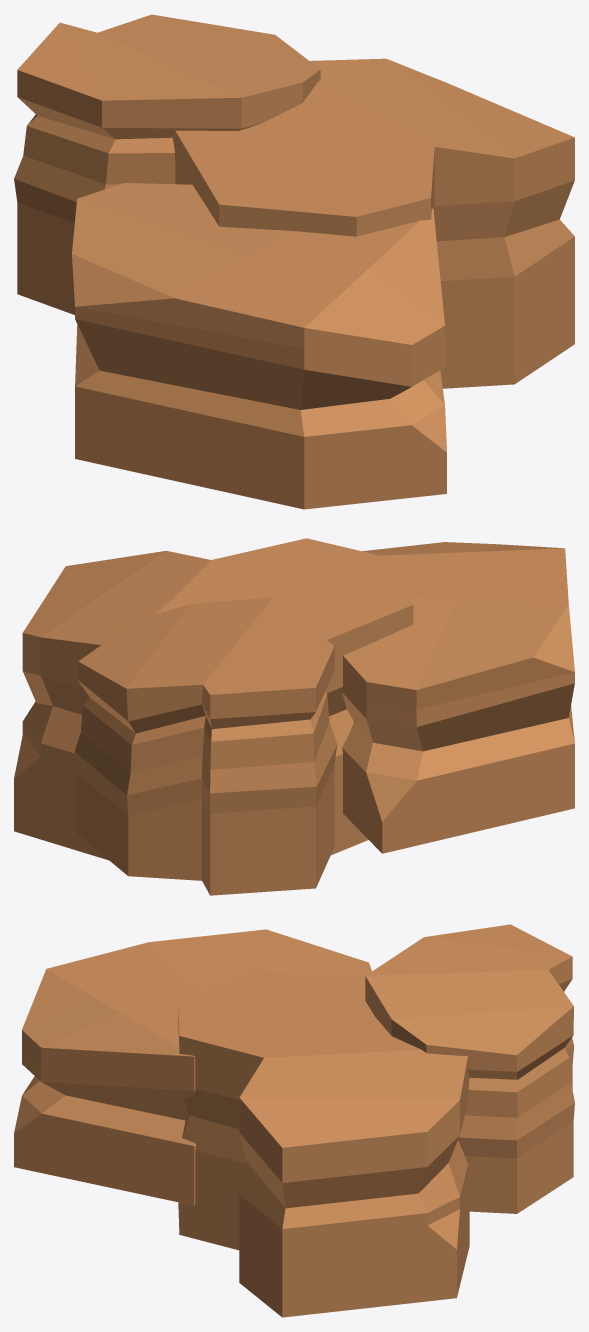
File: SandRocks22_LOD1.fbx
3 renders of one model, top to bottom at view 1: azimuth 30°, elevation 25°; view 2: azimuth 150°, elevation 25°; view 3: azimuth 270°, elevation 25°, orthographic. The views are drawn at different scales.
Parts seen in each view (by area): view 1: 22; view 2: 22; view 3: 22.
Boxes of the visible parts, x1,y1,x2,y2 form: 22: (14, 14, 574, 509); 22: (14, 538, 574, 895); 22: (14, 924, 574, 1317).
Size of the model in its own units: 54.34 by 27.04 by 60.16.
